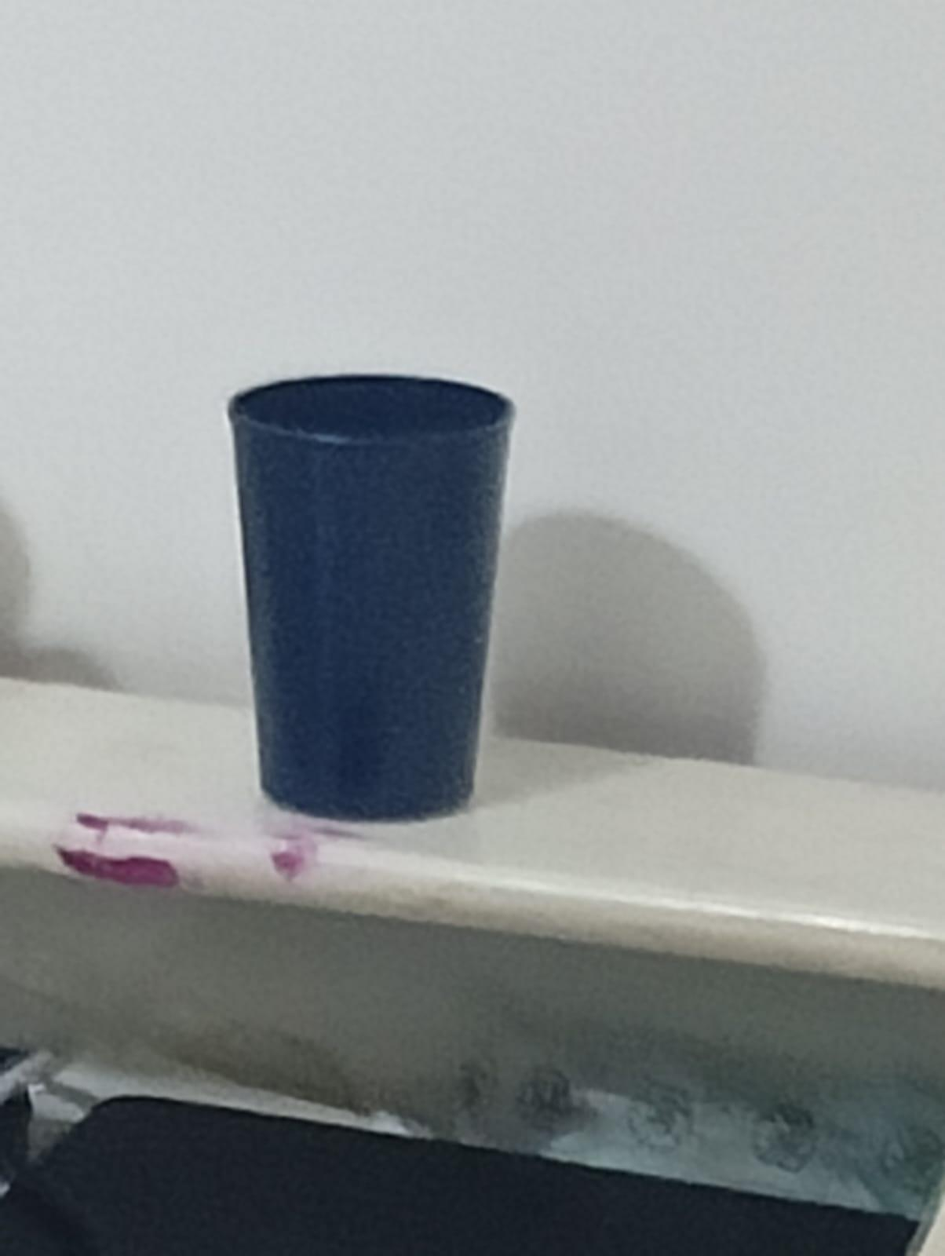cup: (229, 375, 512, 820)
